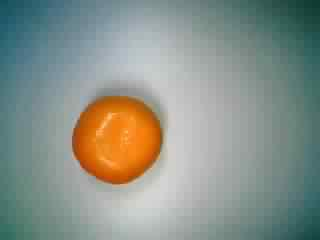orange: (67, 88, 162, 190)
